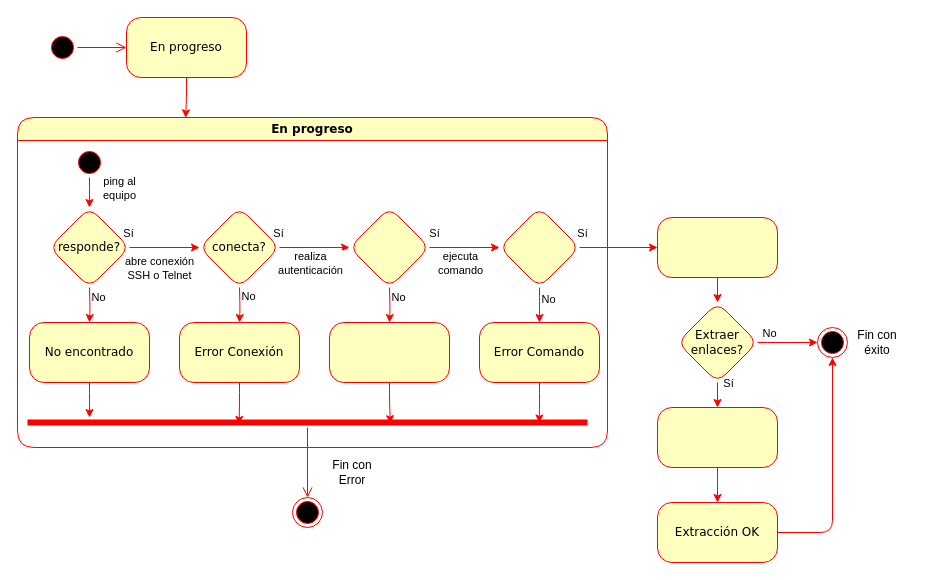
Some shapes in this 925 by 580 pixel diagram are drawn without their labels. Each missing label, with the centre of its shape:
"autentica?" belongs at (x=389, y=247).
"Backup OK" belongs at (x=717, y=247).
"Error Autenticación" belongs at (x=389, y=352).
"responde ok?" belongs at (x=539, y=247).
"Script OK" belongs at (x=717, y=437).
